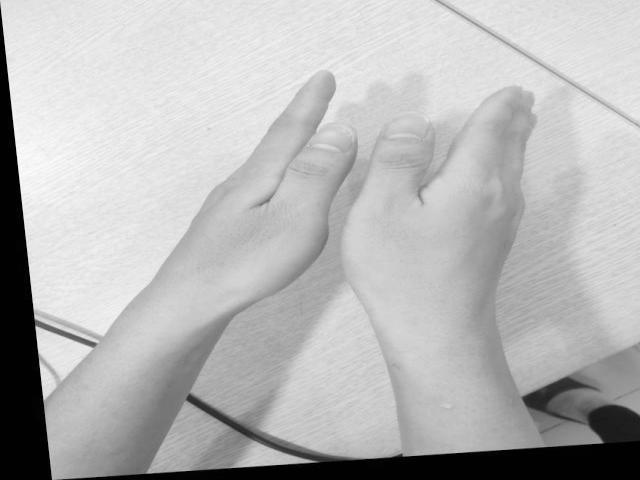not-gloved: (143, 68, 350, 334), (349, 86, 546, 338)
